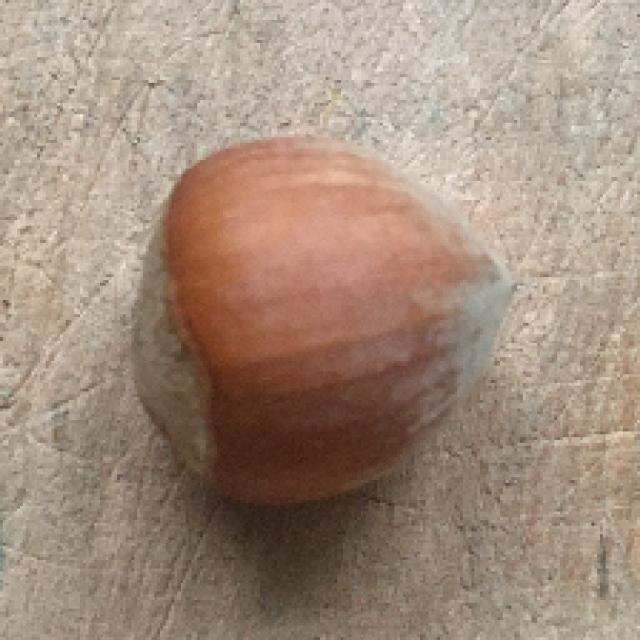qualityHazelnut: (135, 138, 514, 503)
